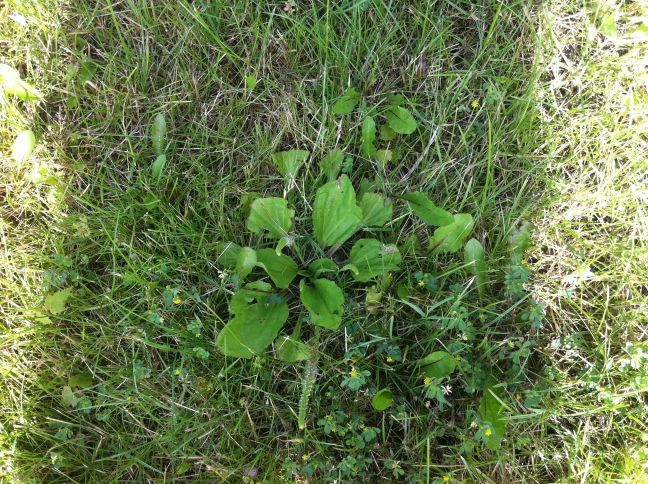weed1: (212, 178, 409, 359)
